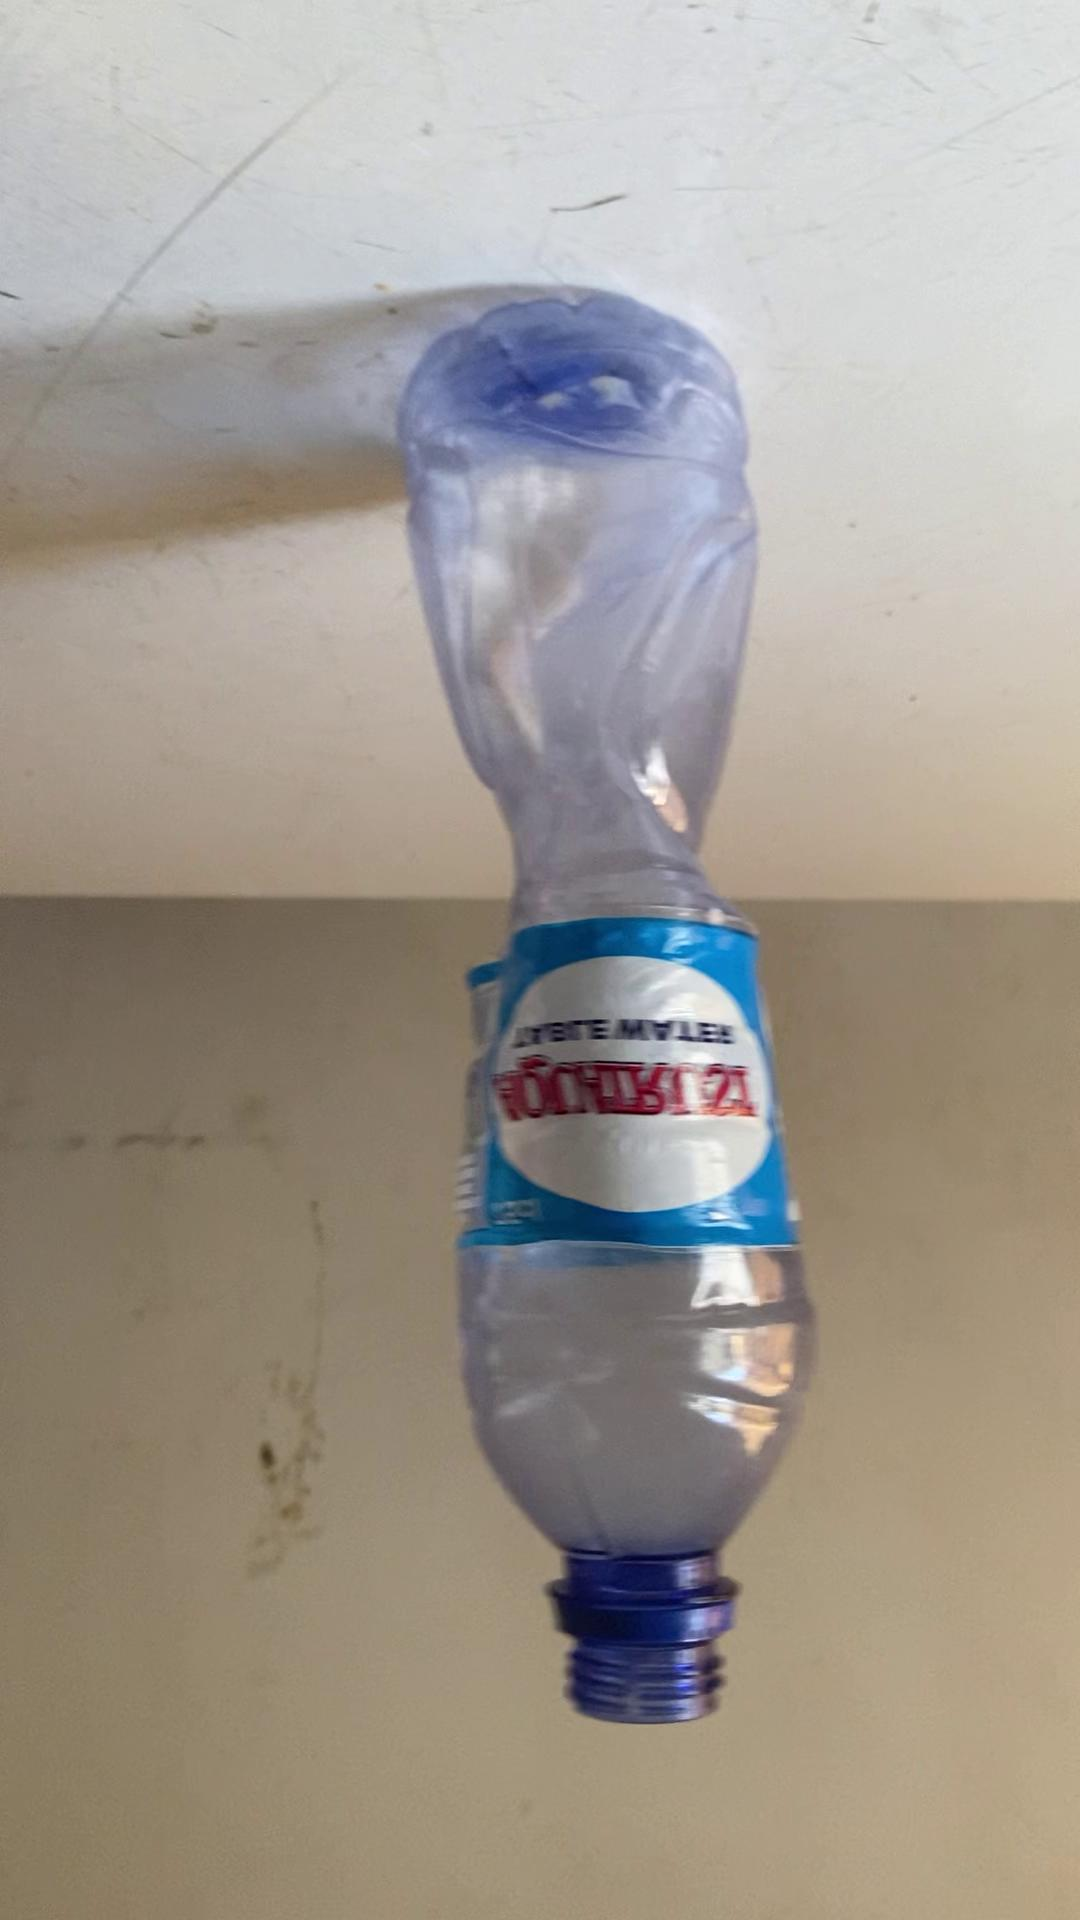crumbled: (390, 282, 829, 1733)
label: (454, 911, 774, 1253)
no-cap: (554, 1600, 736, 1733)
